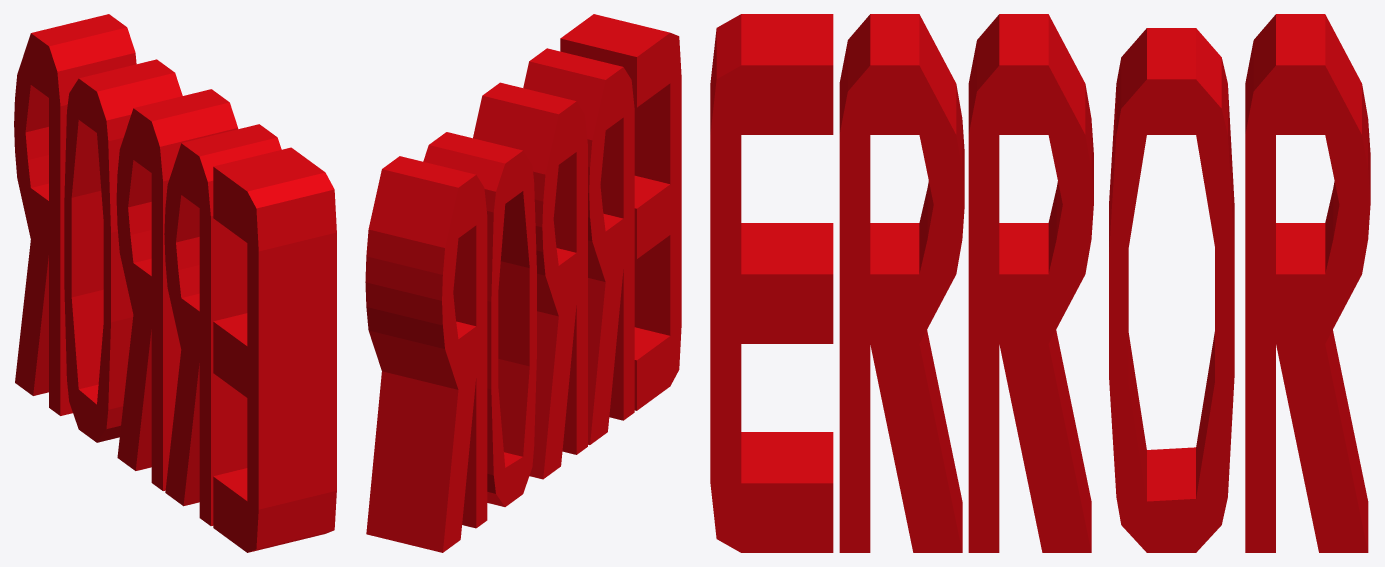
The model's file is error_model.glb.
The picture shows the model from 3 angles, left to right: view 1: azimuth 30°, elevation 25°; view 2: azimuth 150°, elevation 25°; view 3: azimuth 270°, elevation 25°; orthographic projection. The views are drawn at different scales.
Parts seen in each view (by area): view 1: Cube; view 2: Cube; view 3: Cube.
Part boxes in pixels (box(x1,y1,x2,y2)): Cube: box(14, 14, 336, 552); Cube: box(365, 14, 681, 552); Cube: box(710, 14, 1370, 552).
Bounding box in the file's own units: 0.7923 × 3.5 × 4.29.
